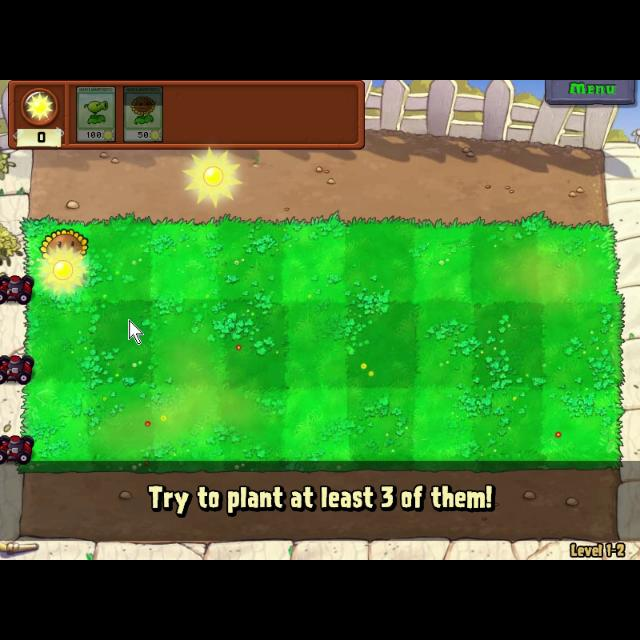Garden: (19, 214, 627, 476)
Menu Button: (543, 80, 635, 106)
Mower: (0, 349, 34, 388), (0, 270, 36, 306), (0, 434, 36, 464)
Peashooter: (74, 84, 118, 144)
Seed Panel: (6, 80, 368, 152)
Sun: (180, 146, 246, 210), (34, 243, 94, 301)
Sunflower: (125, 83, 164, 145)
Sunflower Seed: (36, 225, 90, 263)
